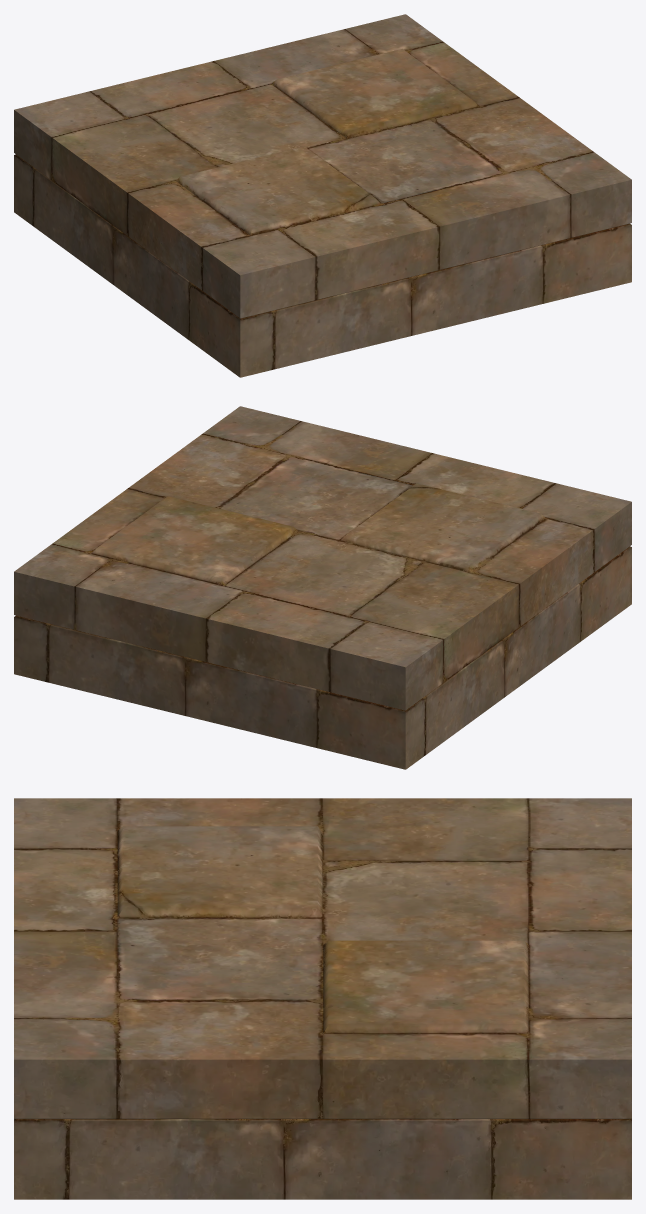
3 views of the same model, one above another, from view 1: azimuth 30°, elevation 25°; view 2: azimuth 150°, elevation 25°; view 3: azimuth 270°, elevation 25° (orthographic). The views are drawn at different scales.
Parts seen in each view (by area): view 1: SM_DK_4m_Floor_01_LOD0; view 2: SM_DK_4m_Floor_01_LOD0; view 3: SM_DK_4m_Floor_01_LOD0.
Part boxes in pixels (x1=…): SM_DK_4m_Floor_01_LOD0: x1=14, y1=14, x2=631, y2=377; SM_DK_4m_Floor_01_LOD0: x1=14, y1=406, x2=631, y2=769; SM_DK_4m_Floor_01_LOD0: x1=14, y1=798, x2=631, y2=1199.
Size of the model in its own units: 4 by 1.05 by 4.
1 material, 1 textured.
